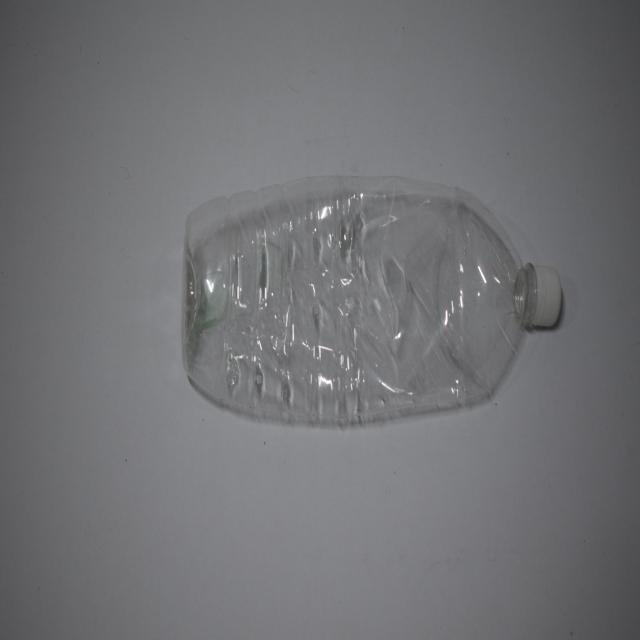bottle: (185, 186, 589, 437)
